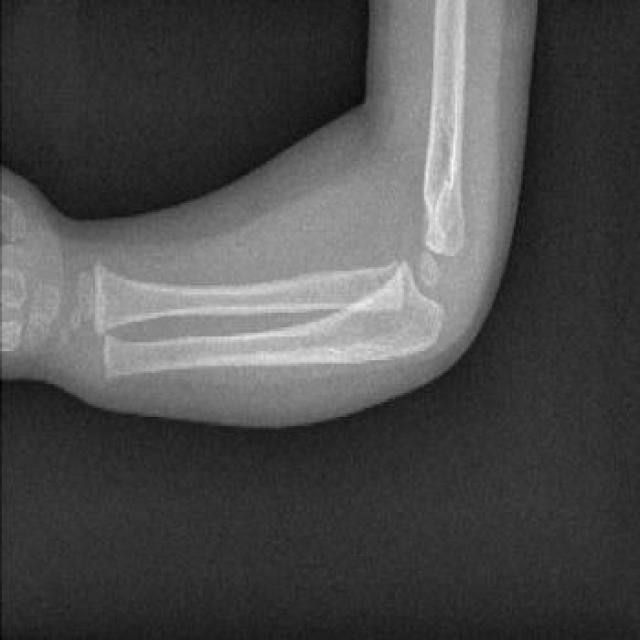Fracture: (402, 205, 457, 343)
